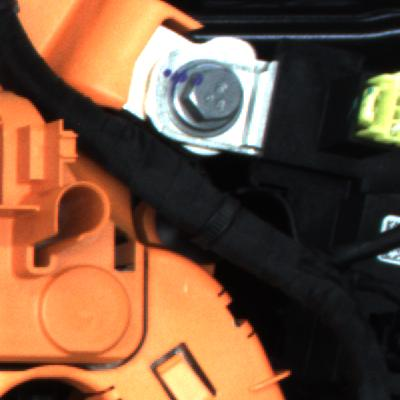nut_b: (172, 63, 261, 153)
